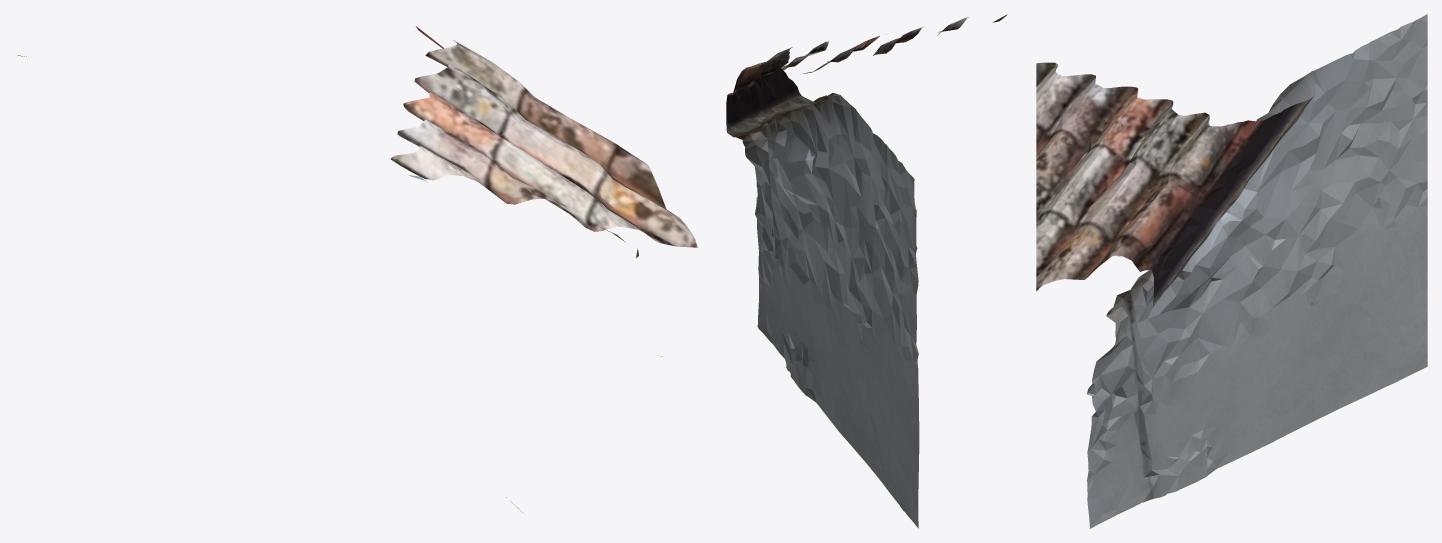
3 renders of one model, left to right at view 1: azimuth 30°, elevation 25°; view 2: azimuth 150°, elevation 25°; view 3: azimuth 270°, elevation 25°, orthographic. The views are drawn at different scales.
Bounding box in the file's own units: 1.65 × 1.67 × 1.67.
4 materials, 4 textured.
